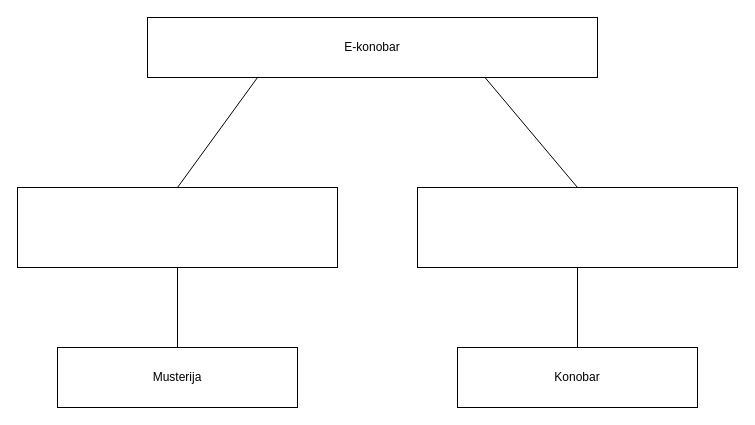
Image size: 755x425. Some labels were removed from this diagram. The centre of each missing label's shape, as x and y in pixels:
Porudzbina Potvrda porudzbine Spremanje porudzbine Urucivanje Placanje: [577,227]
Prijava Odabir pica Prihvatanje porudzbine Primanje porudzbine Placanje: [177,227]
